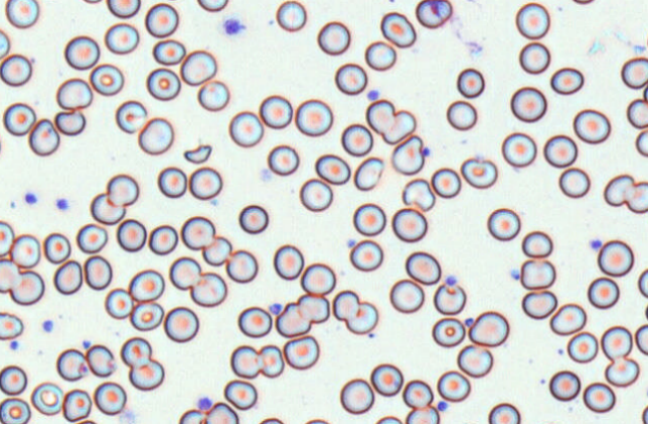PLT: (219, 15, 247, 37), (22, 190, 40, 207), (54, 196, 71, 214), (196, 396, 215, 412), (40, 318, 56, 335), (365, 87, 382, 103), (269, 302, 283, 316), (7, 338, 20, 352), (446, 274, 459, 287), (590, 238, 602, 251), (344, 238, 357, 250), (437, 401, 450, 412), (420, 147, 431, 158), (463, 317, 474, 326), (82, 338, 91, 348)
RBC: (468, 310, 509, 347), (294, 98, 333, 136), (137, 116, 173, 155), (597, 239, 634, 276), (189, 271, 227, 307), (573, 108, 611, 144), (180, 49, 217, 85), (510, 86, 547, 122), (163, 306, 199, 342), (380, 11, 416, 47), (404, 250, 441, 285), (228, 110, 263, 147), (515, 2, 550, 39), (275, 302, 311, 337), (9, 269, 44, 305), (339, 378, 374, 414), (391, 207, 427, 242), (64, 35, 100, 70), (282, 335, 319, 369), (460, 155, 497, 189), (381, 109, 416, 144), (180, 215, 215, 250), (389, 278, 424, 313), (501, 132, 536, 167), (128, 268, 164, 302), (549, 302, 586, 335), (456, 344, 493, 377), (55, 77, 92, 110), (144, 2, 178, 37), (28, 118, 59, 156), (105, 173, 139, 207), (2, 102, 36, 136), (352, 202, 386, 236), (188, 166, 222, 200), (543, 134, 577, 168), (486, 207, 520, 241), (90, 192, 125, 225), (300, 262, 335, 295), (433, 280, 466, 315), (259, 94, 292, 129), (317, 20, 350, 55), (89, 63, 124, 96), (128, 358, 164, 390), (519, 258, 555, 290), (345, 300, 378, 334), (168, 256, 201, 290), (30, 381, 63, 415), (93, 381, 126, 415), (225, 249, 258, 283), (299, 177, 332, 211), (146, 67, 180, 100), (600, 325, 632, 360), (104, 22, 139, 54), (314, 153, 350, 184), (273, 244, 304, 280), (370, 363, 403, 396), (340, 123, 373, 156), (334, 62, 367, 95), (436, 370, 470, 402), (349, 239, 383, 271), (115, 99, 147, 133), (604, 356, 639, 387), (237, 306, 272, 337), (9, 233, 40, 268), (365, 98, 395, 134), (582, 381, 615, 413), (0, 53, 32, 86), (587, 276, 619, 309), (518, 41, 550, 74), (230, 344, 261, 378), (223, 379, 257, 410), (431, 316, 465, 347), (129, 301, 164, 331), (521, 290, 557, 319), (53, 259, 82, 295), (83, 254, 112, 290), (415, 0, 452, 28), (566, 331, 598, 363), (197, 79, 229, 111), (603, 173, 634, 206), (62, 388, 92, 422), (116, 218, 146, 252), (120, 336, 152, 367), (548, 370, 580, 401), (558, 167, 590, 198), (267, 144, 299, 175), (364, 40, 396, 71), (550, 66, 584, 95), (275, 0, 306, 31), (430, 167, 461, 198), (446, 99, 477, 130), (297, 293, 329, 323), (157, 166, 187, 198), (5, 0, 39, 28), (201, 235, 231, 266), (148, 224, 178, 255), (76, 223, 107, 253), (104, 287, 133, 319), (620, 56, 648, 89), (238, 204, 268, 234), (402, 379, 433, 408), (152, 38, 185, 65), (258, 344, 284, 378), (521, 230, 552, 258), (43, 232, 71, 263), (456, 67, 484, 98), (332, 289, 359, 320), (0, 364, 27, 395), (0, 397, 31, 423), (624, 180, 648, 213), (205, 401, 238, 423), (626, 98, 648, 129), (0, 259, 20, 293), (488, 402, 520, 423), (0, 311, 23, 340), (405, 405, 439, 423), (106, 0, 140, 18), (0, 220, 14, 257), (178, 408, 206, 423), (634, 323, 647, 355), (635, 128, 648, 156), (637, 267, 648, 298), (197, 0, 228, 11), (0, 28, 10, 59), (374, 415, 402, 423), (258, 417, 284, 423), (641, 404, 648, 423), (303, 418, 329, 423), (73, 419, 97, 424), (571, 0, 595, 5), (643, 82, 648, 103), (81, 0, 103, 4), (0, 131, 3, 158), (644, 301, 648, 321), (160, 0, 186, 1)
Schistocyte: (391, 136, 425, 175), (401, 179, 436, 213), (354, 157, 385, 191), (56, 349, 85, 383), (87, 344, 114, 378), (53, 111, 86, 135), (183, 145, 214, 165)
